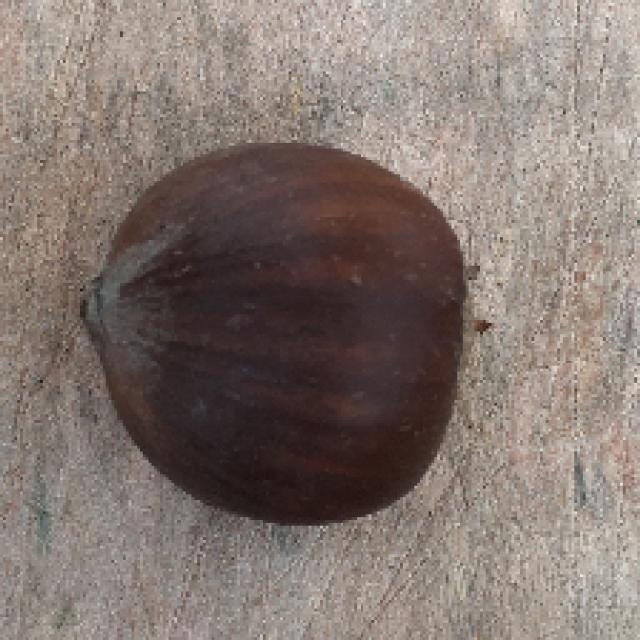damagedHazelnut: (86, 143, 472, 531)
